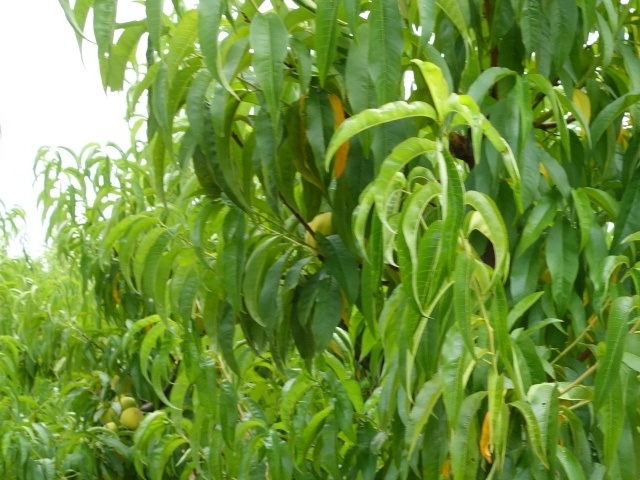peach: (301, 205, 338, 252), (117, 406, 145, 432), (112, 395, 139, 416)
